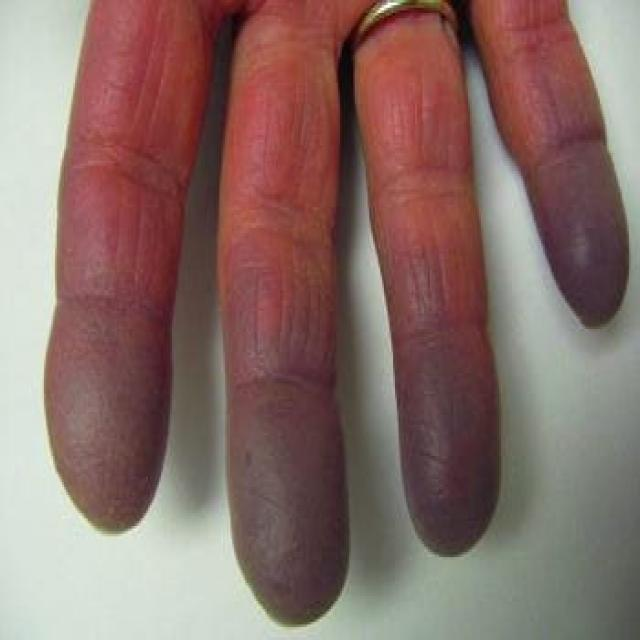raynauds: (211, 317, 385, 623), (368, 278, 545, 558), (52, 213, 199, 527), (488, 104, 640, 392)
